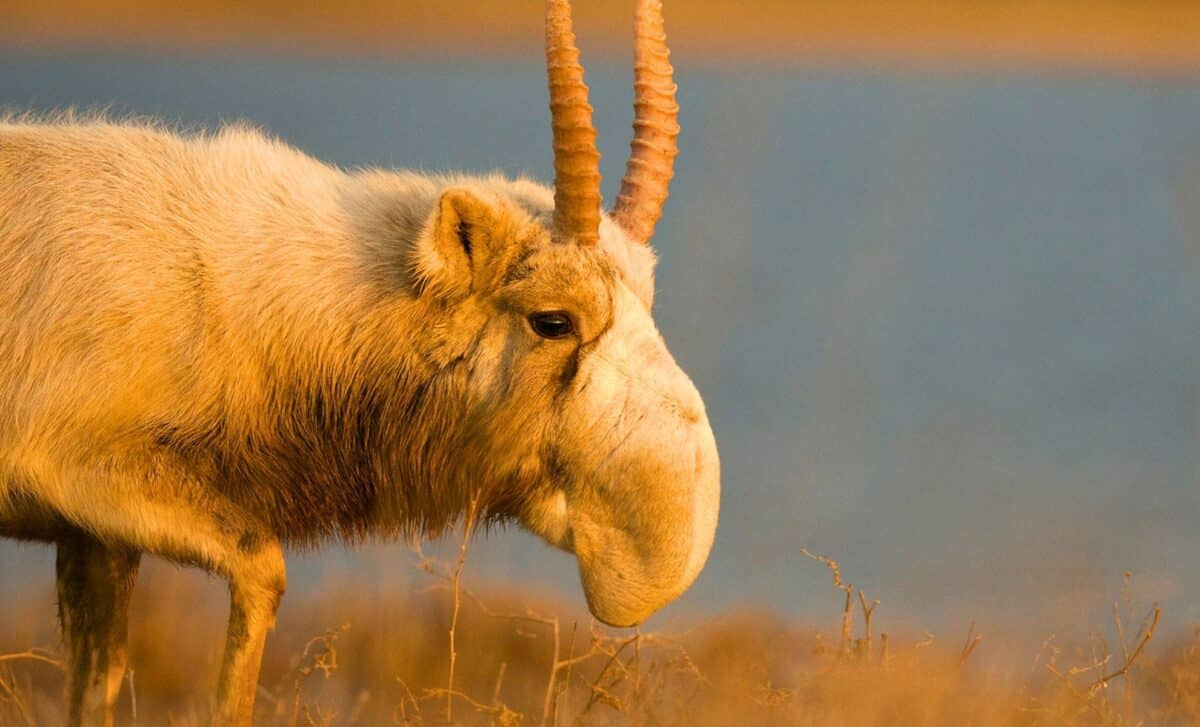saiga: (12, 3, 724, 727)
